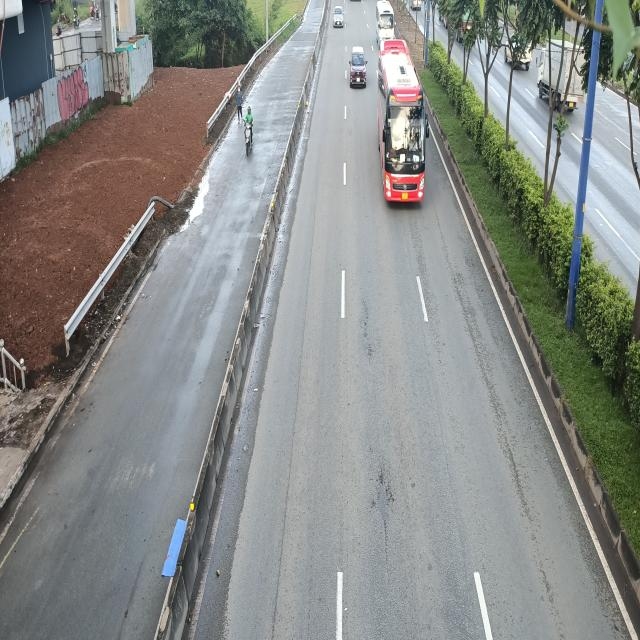car: (348, 46, 368, 88), (334, 4, 346, 27)
coach: (375, 41, 428, 206), (375, 0, 394, 44)
